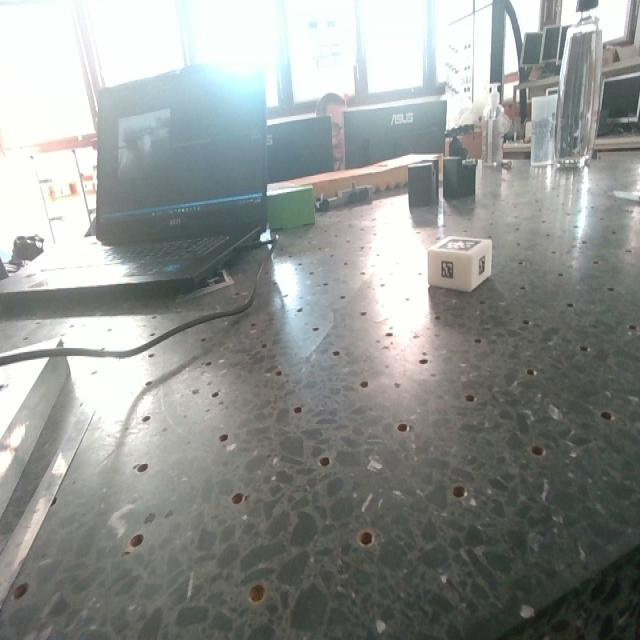Cube: (427, 234, 494, 290)
